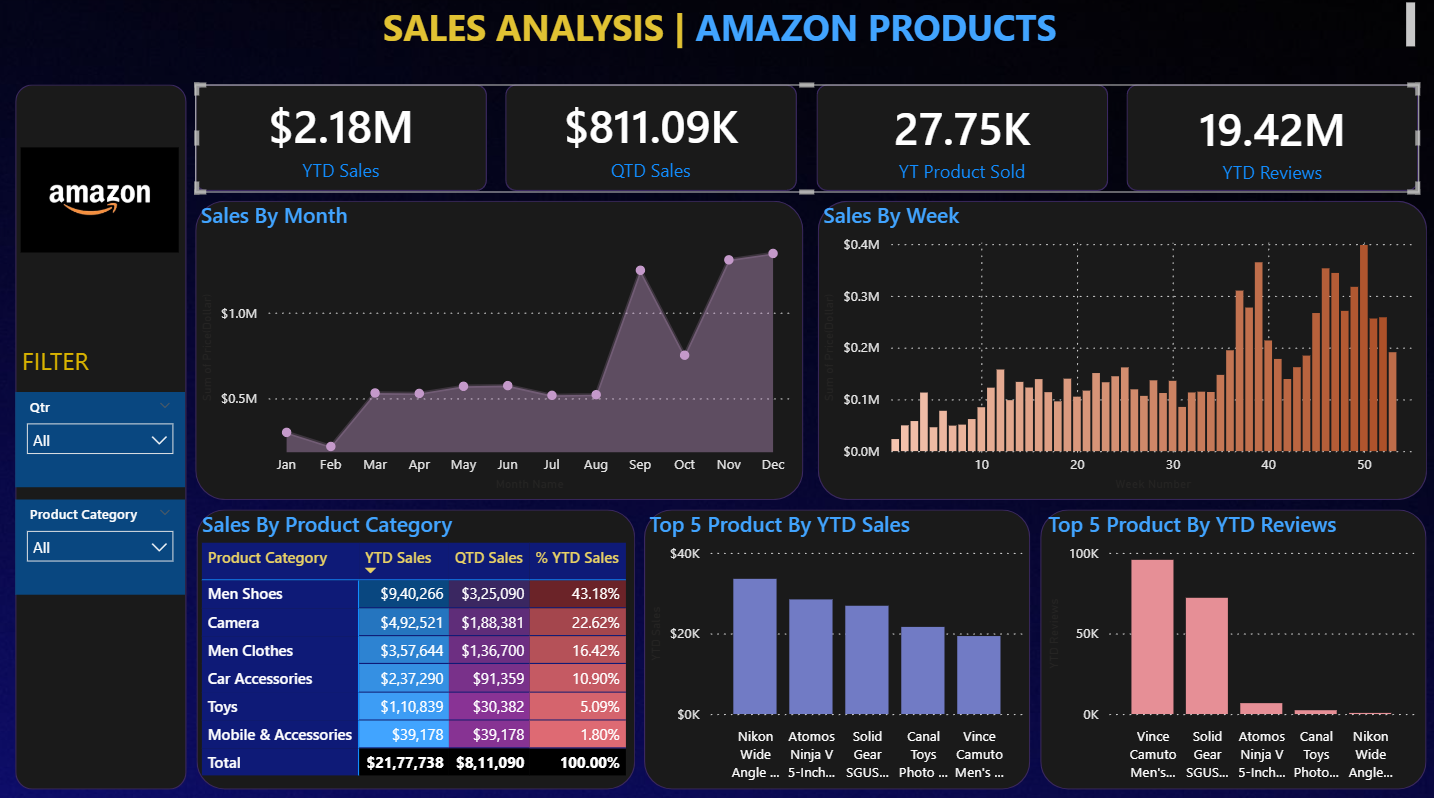

The dashboard page shown, as its layout file describes it:
{"tool":"powerbi","page":{"name":"Page 1","canvas":[1280,720],"ordinal":0},"visuals":[{"type":"shape","box":[175.3,77.9,259.7,94.8],"z":0,"group":"g1"},{"type":"shape","box":[14.5,77.9,152.5,627.8],"z":0},{"type":"card","fields":{"Values":["Amazon_Data.YTD Sales"]},"box":[175.3,77.9,259.7,94.8],"z":1000,"group":"g1"},{"type":"textbox","box":[26.8,0,1239.2,50.5],"z":1000},{"type":"shape","box":[451.9,77.9,259.7,94.8],"z":2000,"group":"g1"},{"type":"group","id":"g1","title":"Group 1","box":[175.3,77.9,1089.7,96.3],"z":2000},{"type":"shape","box":[728.5,77.9,259.7,94.8],"z":3000,"group":"g1"},{"type":"shape","box":[175.3,181.3,541.5,266.6],"z":3000},{"type":"shape","box":[1005.2,77.9,259.7,94.8],"z":4000,"group":"g1"},{"type":"areaChart","title":"Sales By Month","fields":{"Y":["Amazon_Data.Price(Dollar)"],"Category":["Date Table.Month Name"]},"box":[175.3,181.3,535.5,263],"z":4000},{"type":"card","fields":{"Values":["Amazon_Data.QTD Sales"]},"box":[451.9,77.9,259.7,94.8],"z":5000,"group":"g1"},{"type":"shape","box":[728.9,181.3,542.7,266.6],"z":5000},{"type":"card","fields":{"Values":["Amazon_Data.YT Product Sold"]},"box":[728.5,79.2,259.7,94.8],"z":6000,"group":"g1"},{"type":"columnChart","title":"Sales By Week","fields":{"Category":["Date Table.Week Number"],"Y":["Amazon_Data.Price(Dollar)"]},"box":[728.9,181.3,541.5,263],"z":6000},{"type":"card","fields":{"Values":["Amazon_Data.YTD Reviews"]},"box":[1004.9,79.7,260.1,94.5],"z":7000,"group":"g1"},{"type":"shape","box":[175.9,456.4,390.7,249.4],"z":7000},{"type":"pivotTable","title":"Sales By Product Category","fields":{"Rows":["Amazon_Data.Product Category"],"Values":["Amazon_Data.YTD Sales1","Amazon_Data.QTD Sales","Amazon_Data.YTD Sales"]},"box":[175.9,456.4,390.7,249.4],"z":8000},{"type":"shape","box":[574.4,456.4,344,249.4],"z":9000},{"type":"shape","box":[927.3,456.4,344,249.4],"z":10000},{"type":"columnChart","title":"Top 5 Product By YTD Sales","fields":{"Category":["Amazon_Data.Product Description"],"Y":["Amazon_Data.YTD Sales"]},"box":[574.4,456.4,344,249.4],"z":11000},{"type":"columnChart","title":"Top 5 Product By YTD Reviews","fields":{"Category":["Amazon_Data.Product Description"],"Y":["Amazon_Data.YTD Reviews"]},"box":[929.5,456.4,336.2,249.4],"z":12000},{"type":"slicer","fields":{"Values":["Amazon_Data.Product Category"]},"box":[14.5,447.6,150.8,84.5],"z":13000},{"type":"slicer","fields":{"Values":["Date Table.Qtr"]},"box":[14.5,352.3,150.8,84.5],"z":14000},{"type":"image","box":[14.4,78.4,150.5,206.2],"z":15000},{"type":"textbox","box":[15.5,304.1,150.5,44.3],"z":16000}]}

Visuals, with their boxes in screenshot pixels (x1, y1, x2, y2), scaled from the page's 1280x720 canvas onto the 1434x798 screenshot:
shape: <box>196,86,487,191</box>
shape: <box>16,86,187,782</box>
card - Amazon_Data.YTD Sales: <box>196,86,487,191</box>
textbox: <box>30,0,1418,56</box>
shape: <box>506,86,797,191</box>
"Group 1" group: <box>196,86,1417,193</box>
shape: <box>816,86,1107,191</box>
shape: <box>196,201,803,496</box>
shape: <box>1126,86,1417,191</box>
"Sales By Month" areaChart: <box>196,201,796,492</box>
card - Amazon_Data.QTD Sales: <box>506,86,797,191</box>
shape: <box>817,201,1425,496</box>
card - Amazon_Data.YT Product Sold: <box>816,88,1107,193</box>
"Sales By Week" columnChart: <box>817,201,1423,492</box>
card - Amazon_Data.YTD Reviews: <box>1126,88,1417,193</box>
shape: <box>197,506,635,782</box>
"Sales By Product Category" pivotTable: <box>197,506,635,782</box>
shape: <box>644,506,1029,782</box>
shape: <box>1039,506,1424,782</box>
"Top 5 Product By YTD Sales" columnChart: <box>644,506,1029,782</box>
"Top 5 Product By YTD Reviews" columnChart: <box>1041,506,1418,782</box>
slicer - Amazon_Data.Product Category: <box>16,496,185,590</box>
slicer - Date Table.Qtr: <box>16,390,185,484</box>
image: <box>16,87,185,315</box>
textbox: <box>17,337,186,386</box>
